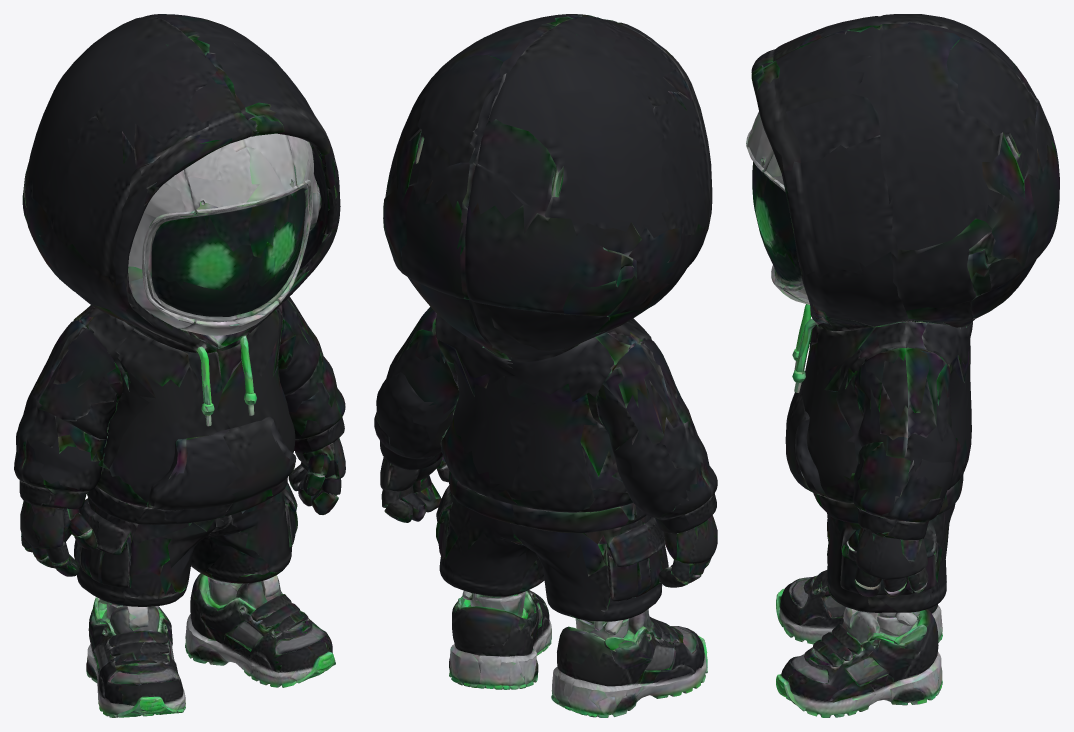
The model's file is byte.glb.
3 views of the same model, side by side, from view 1: azimuth 30°, elevation 25°; view 2: azimuth 150°, elevation 25°; view 3: azimuth 270°, elevation 25° (orthographic). The views are drawn at different scales.
Parts seen in each view (by area): view 1: mesh_node; view 2: mesh_node; view 3: mesh_node.
Boxes of the visible parts, x1,y1,x2,y2 form: mesh_node: (14,14,345,717); mesh_node: (374,14,717,717); mesh_node: (746,14,1059,717).
Bounding box in the file's own units: 1 × 1.9 × 0.844.
Materials: 1 (1 with a texture image).
